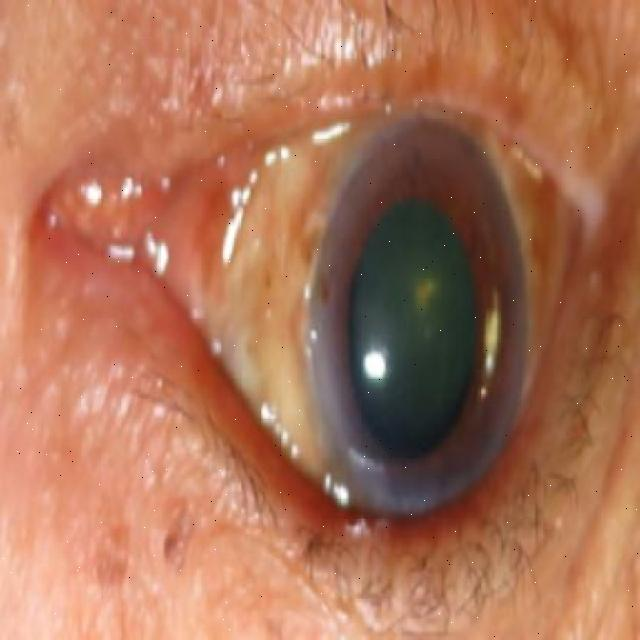Cataract: (304, 112, 531, 522)
